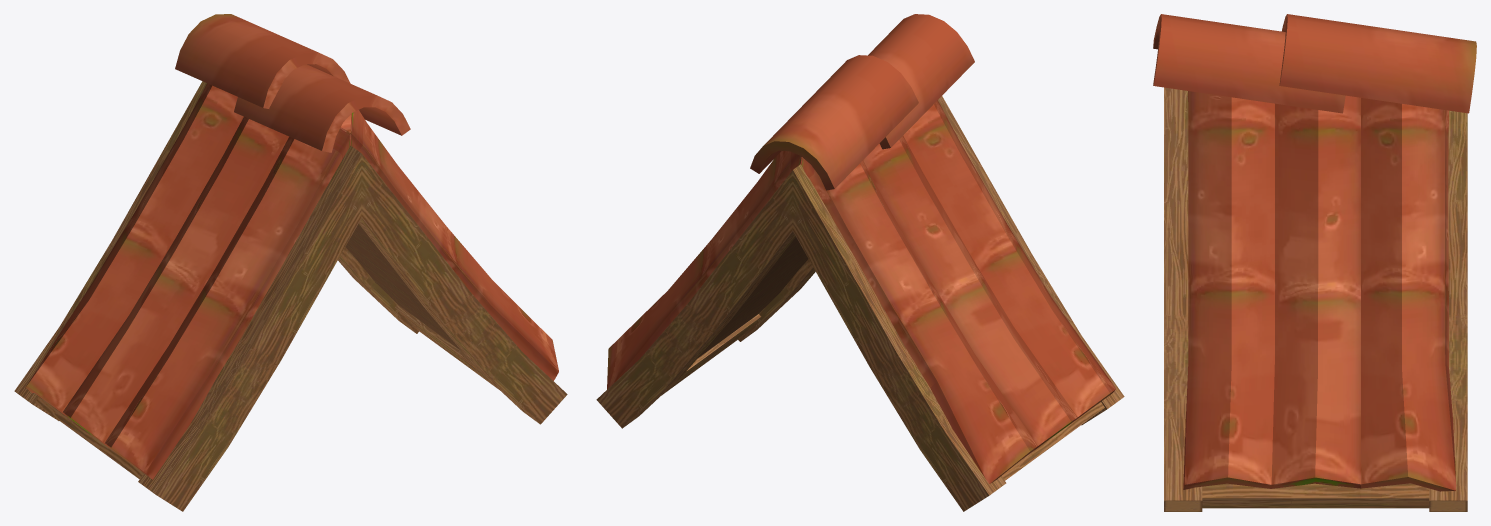
The model's file is roof_roundtile_2x1.glb.
3 views of the same model, side by side, from view 1: azimuth 30°, elevation 25°; view 2: azimuth 150°, elevation 25°; view 3: azimuth 270°, elevation 25° (orthographic). The views are drawn at different scales.
Bounding box in the file's own units: 3.3 × 2.66 × 1.95.
Materials: 2 (2 with a texture image).
